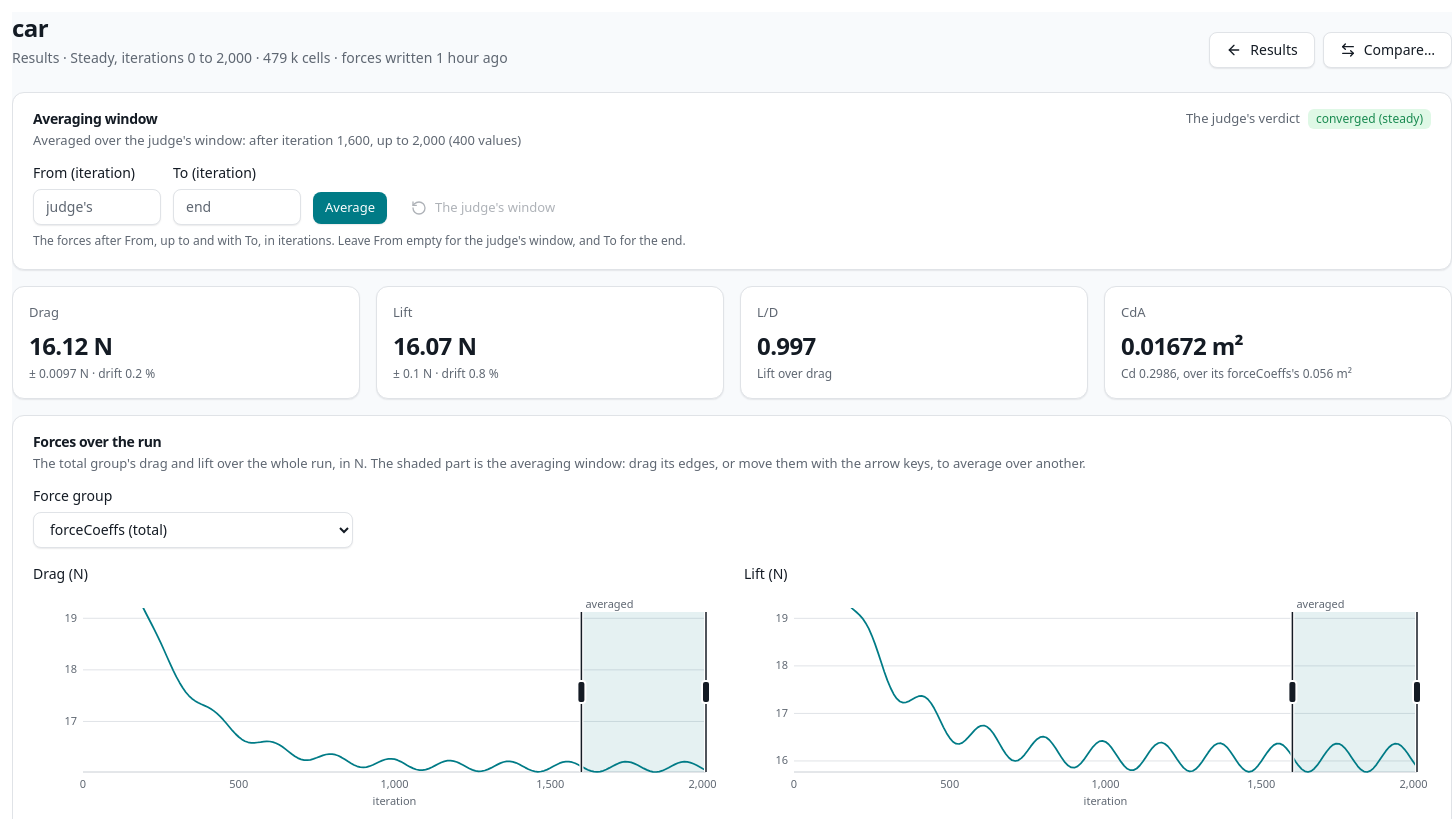
Scenario: a case's results › averages over a window typed in, keeps it in the address, and goes back to the judge's
The width and height of the screenshot is (1452, 819).
Expected: the text "16.12 N" is shown, 29,329 -> 112,362
Type "1000" into the field labelled "From (iteration)" at (97, 206), box 33,188 -> 161,224
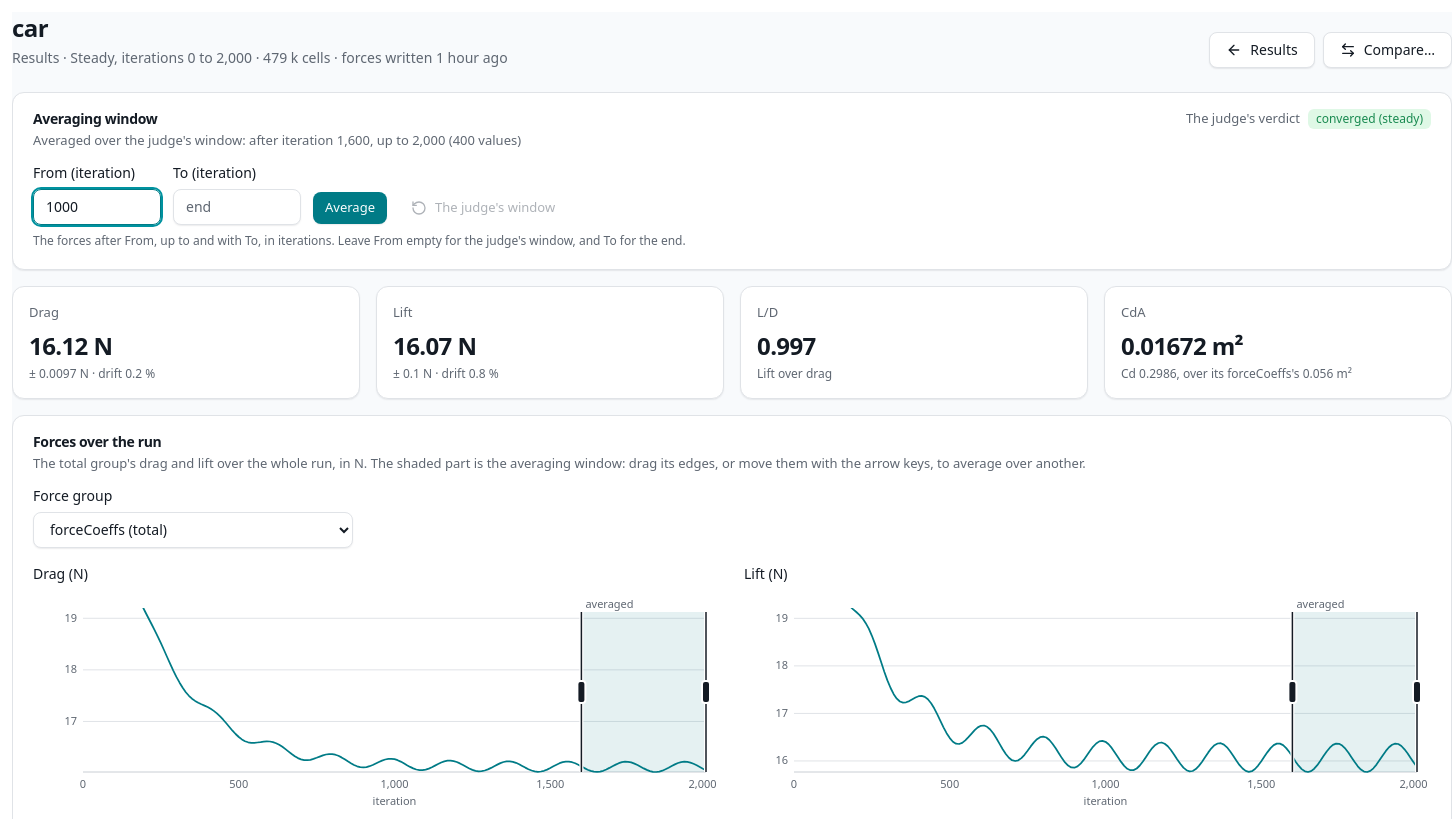
Click the button "Average" at (350, 208), box 313,192 -> 387,224
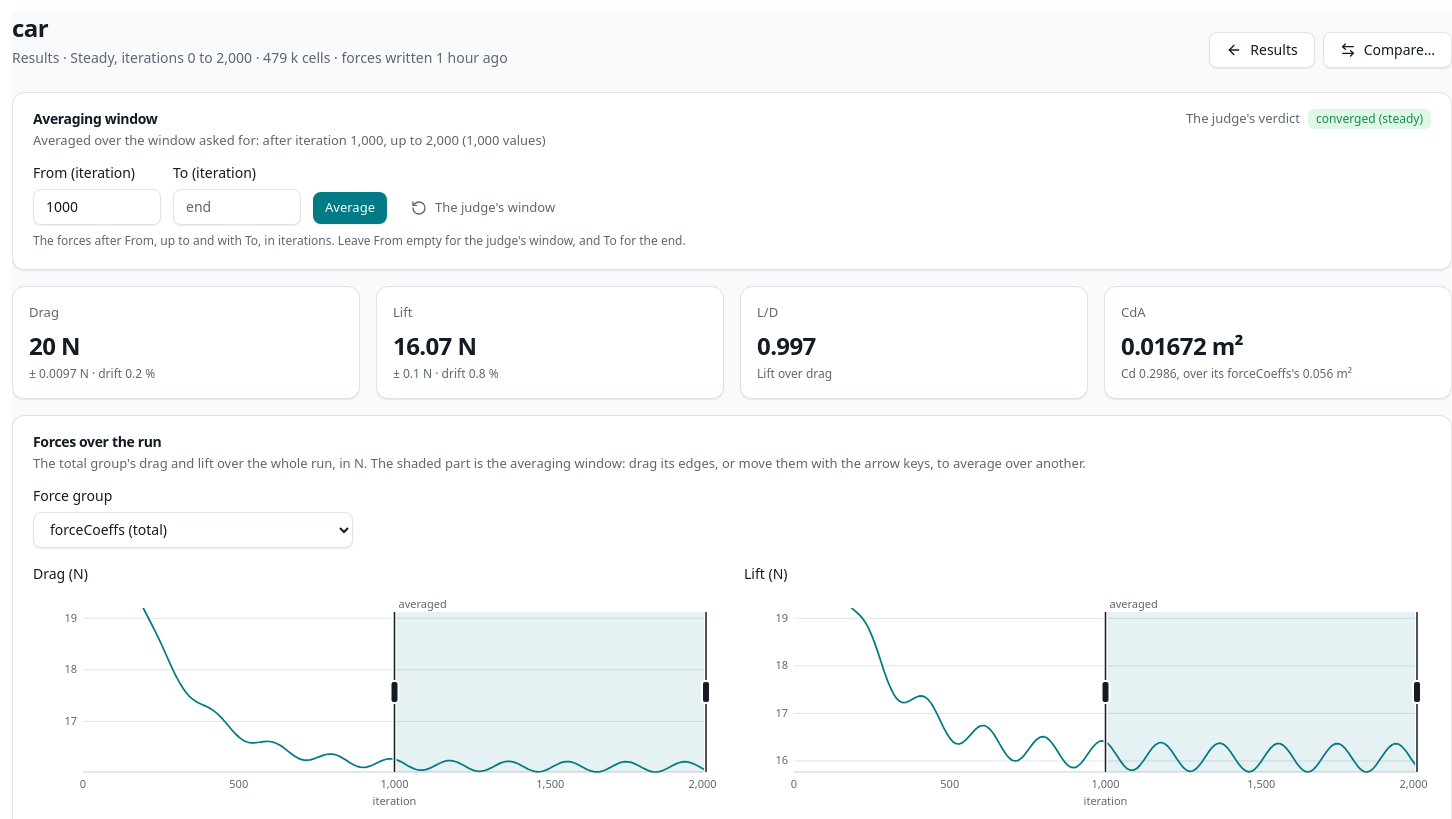
Now the field labelled "From (iteration)" holds "1000", box 33,188 -> 161,224
Now the text "Averaged over the window asked for: after iteration 1,000, up to 2,000 (1,000 values)" is shown, box 33,131 -> 546,149
Now the text "20 N" is shown, box 29,329 -> 80,362
Click the button "The judge's window" at (483, 208), box 399,192 -> 567,224
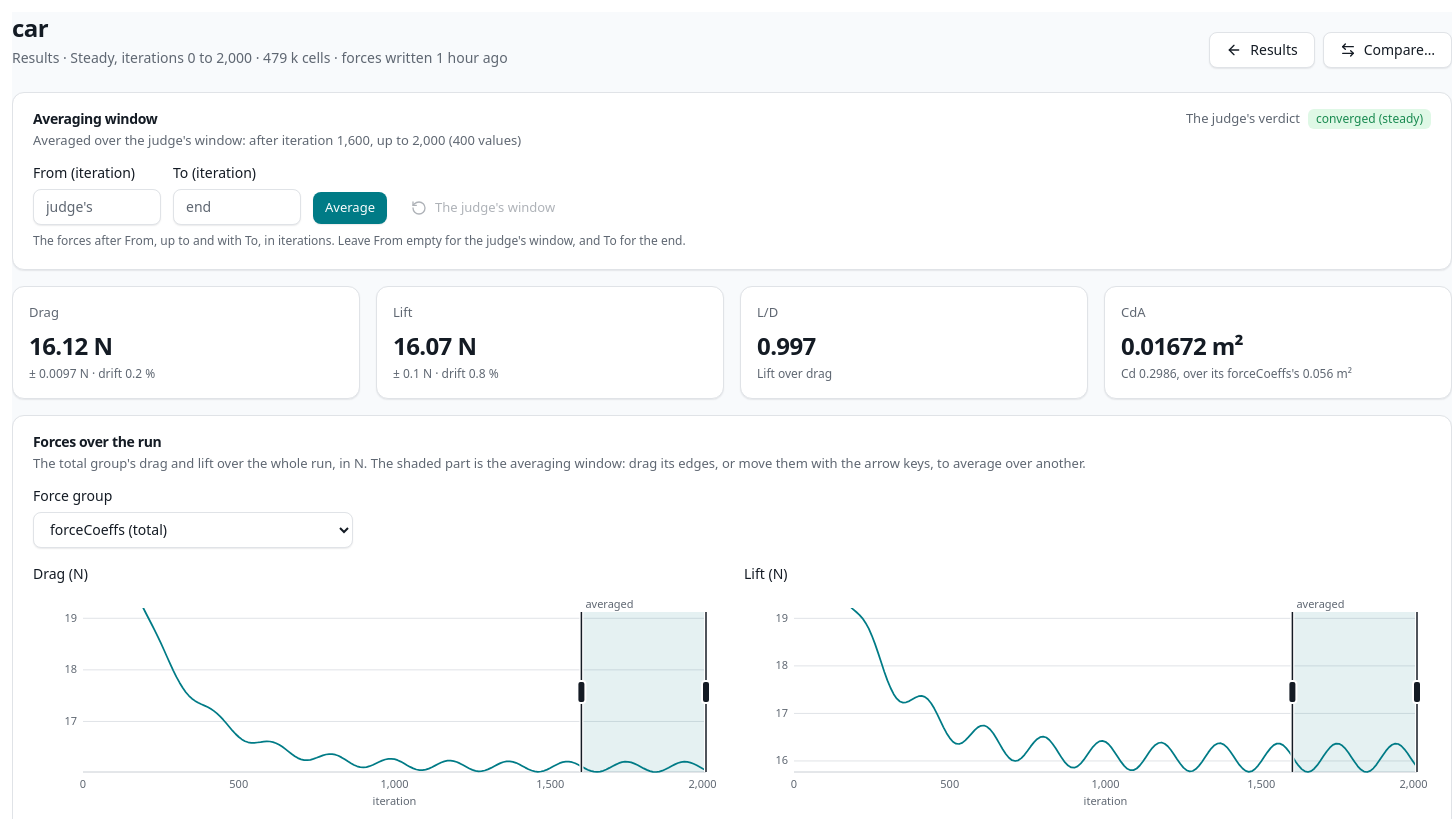
Now the text "Averaged over the judge's window" is shown, box 33,131 -> 521,149
Now the field labelled "From (iteration)" is empty, box 33,188 -> 161,224
